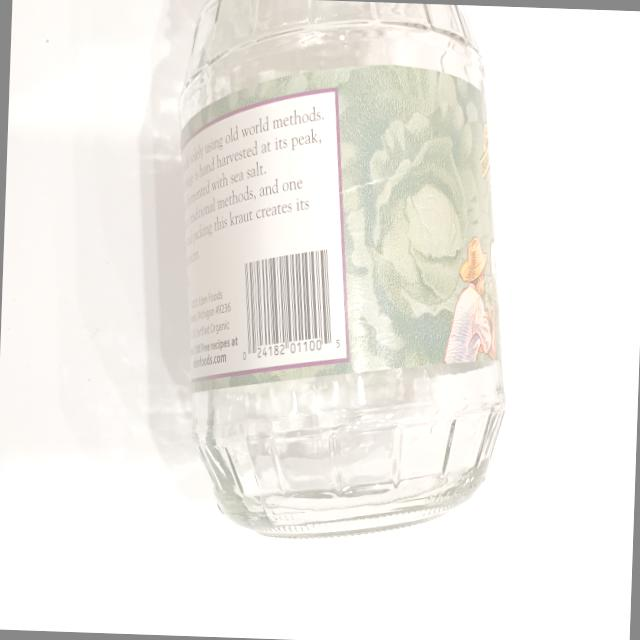Glass: (139, 0, 528, 565)
